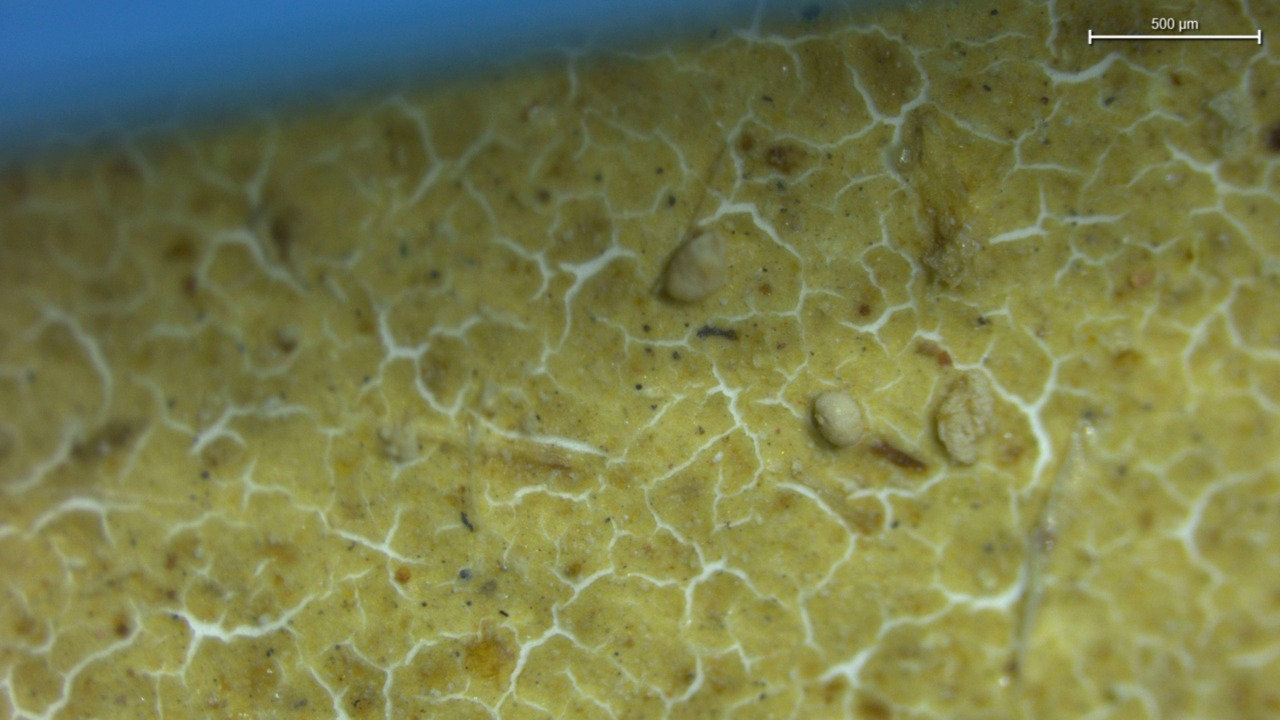microplastic_fragment: (935, 372, 995, 464), (661, 231, 726, 304)
